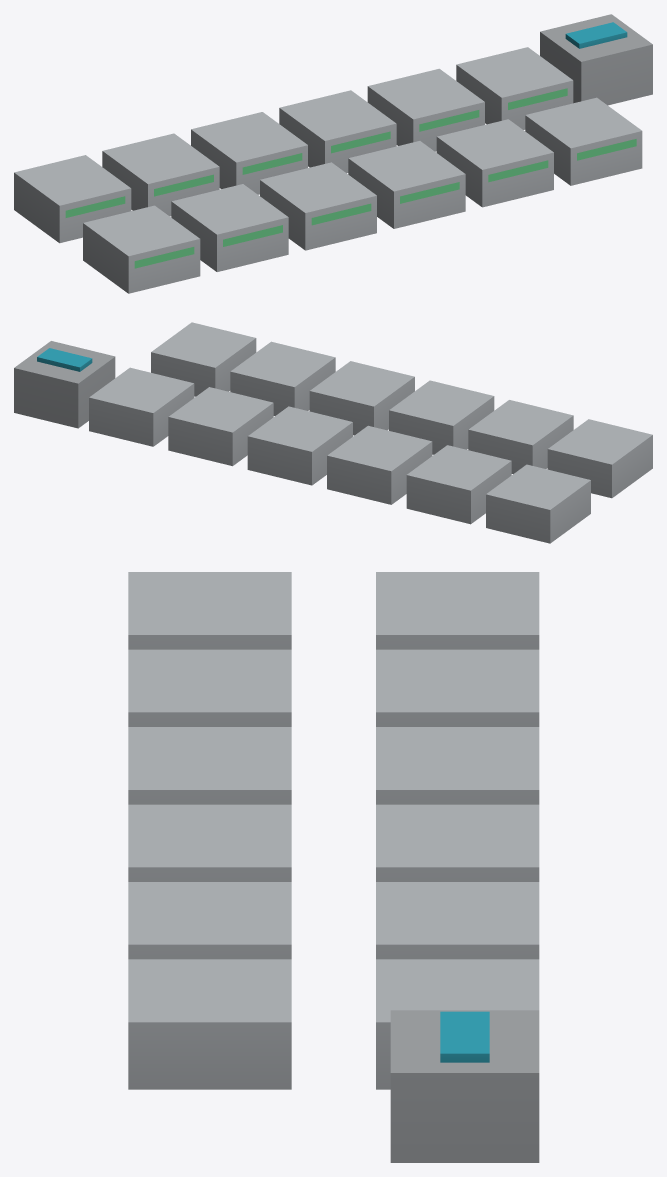
Rendered from plant_battery_l3.fbx.
3 views of the same model, one above another, from view 1: azimuth 30°, elevation 25°; view 2: azimuth 150°, elevation 25°; view 3: azimuth 270°, elevation 25° (orthographic). The views are drawn at different scales.
Visible parts, largest first — view 1: plant_battery_l3; view 2: plant_battery_l3; view 3: plant_battery_l3.
Part boxes in pixels (x1,y1,x2,y2): plant_battery_l3: [14, 14, 652, 293]; plant_battery_l3: [14, 322, 652, 543]; plant_battery_l3: [128, 572, 539, 1162].
Bounding box in the file's own units: 50 × 4.4 × 16.62.
